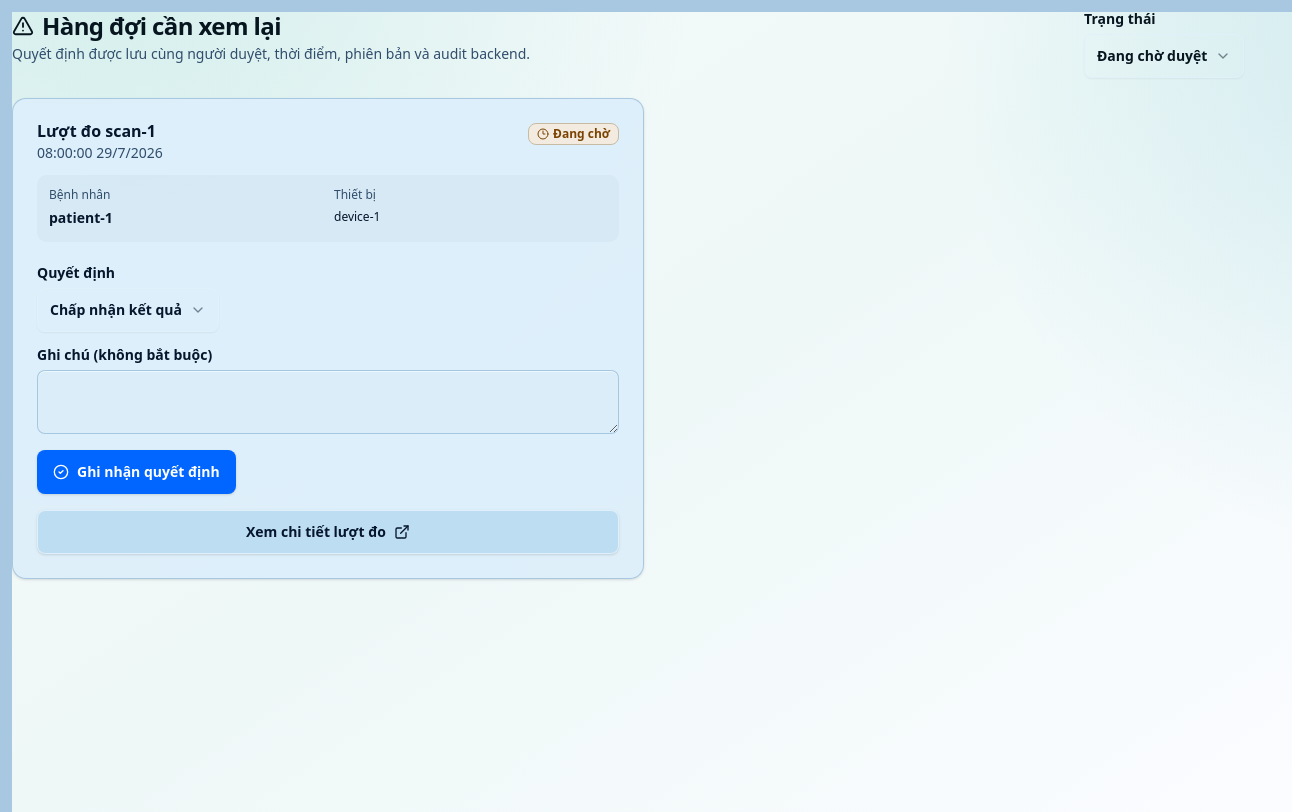
Test: clinical workflow pages › does not publish review success for a foreign mutation receipt
Click the button "Ghi nhận quyết định" at {"x": 136, "y": 472}, box [37,450,236,494]
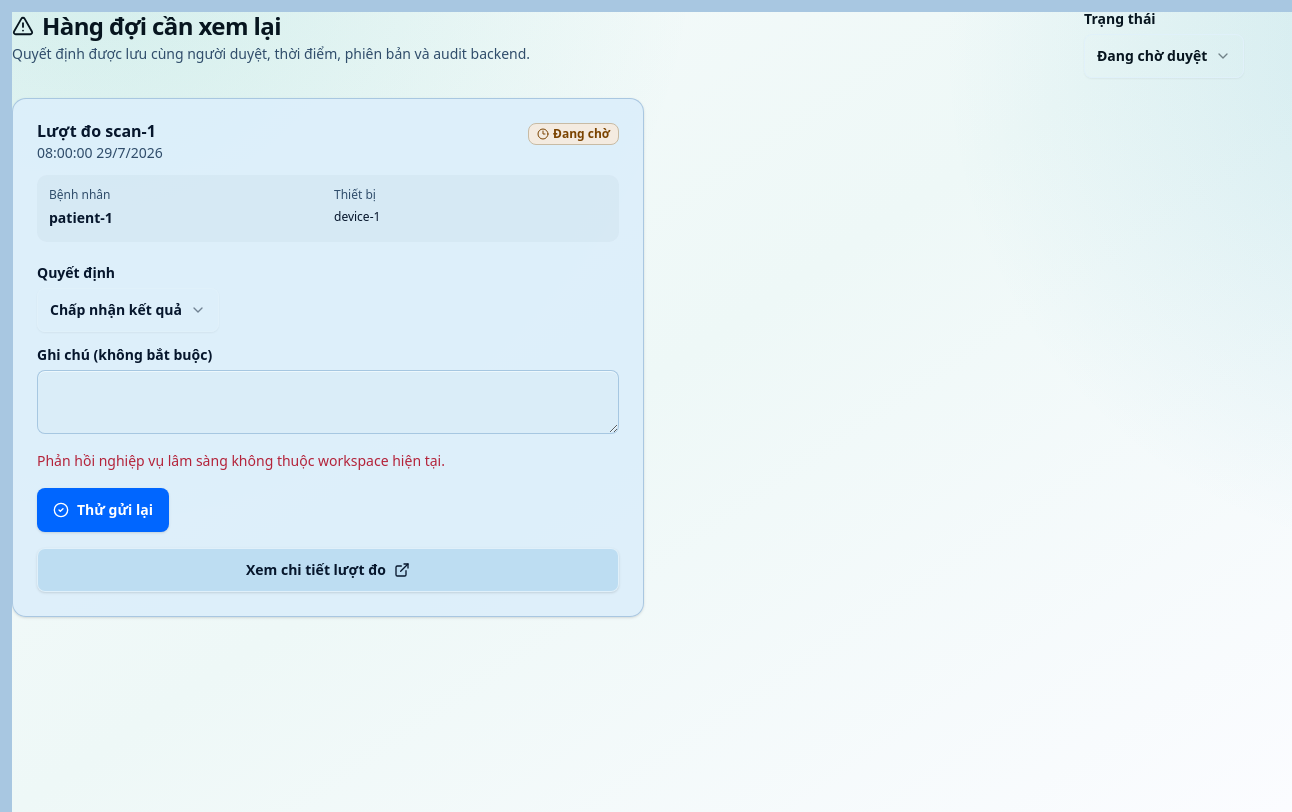
Expected: the text "Phản hồi nghiệp vụ lâm sàng không thuộc workspace hiện tại." is shown, [37,451,445,470]
